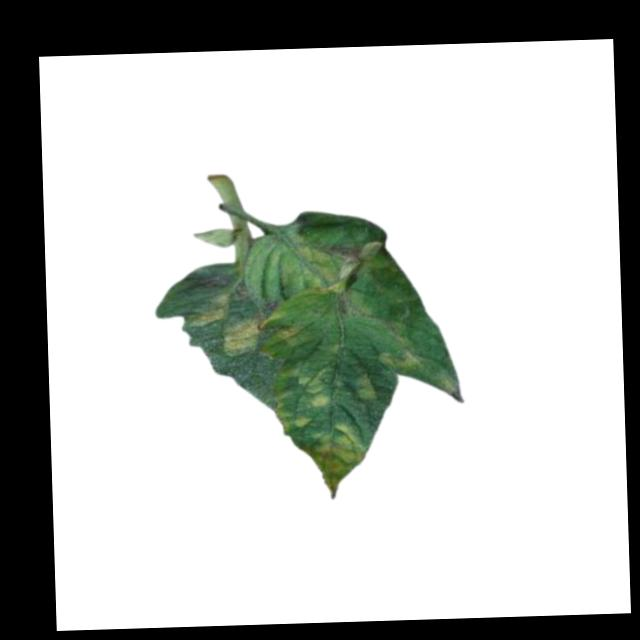Leaf_Mold: (300, 422, 366, 500), (187, 294, 262, 358), (286, 242, 341, 291), (374, 326, 417, 376), (294, 366, 328, 409), (270, 323, 308, 353)
